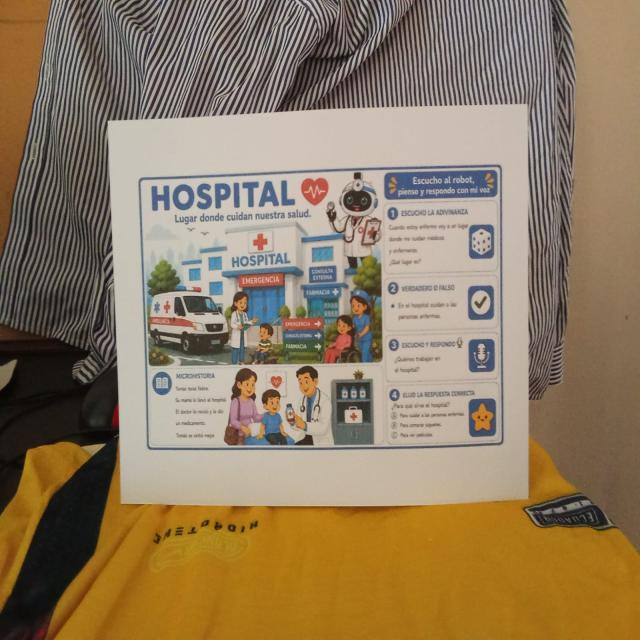hospital: (134, 160, 507, 455)
